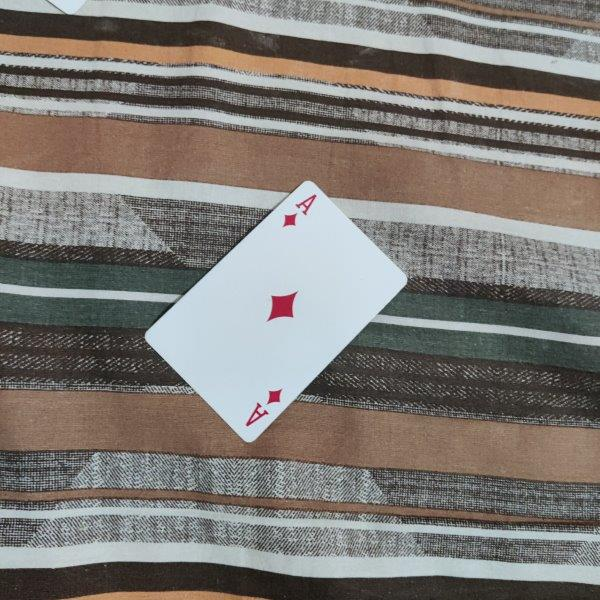Ace of Diamonds: (143, 180, 409, 444)
